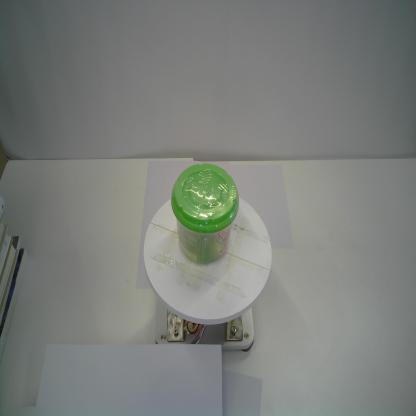Instant Drink: (168, 162, 241, 269)
